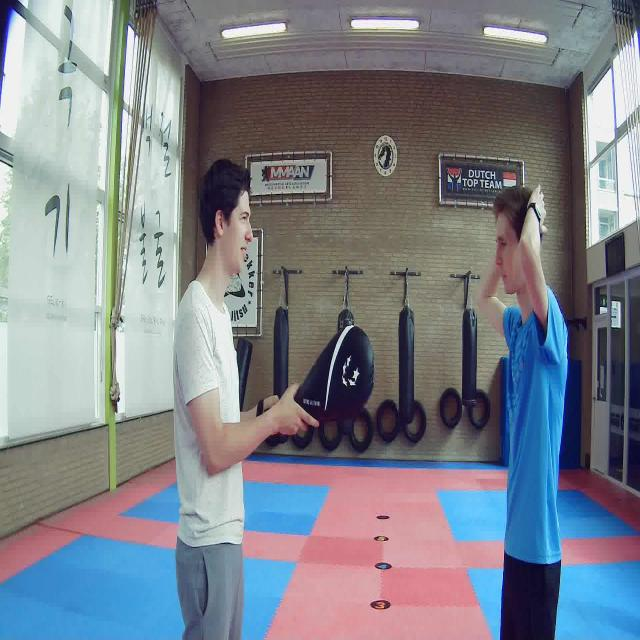paddle: (295, 327, 375, 420)
